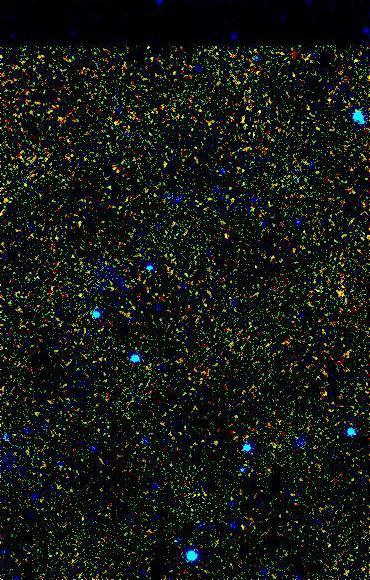star: (325, 280, 355, 310)
